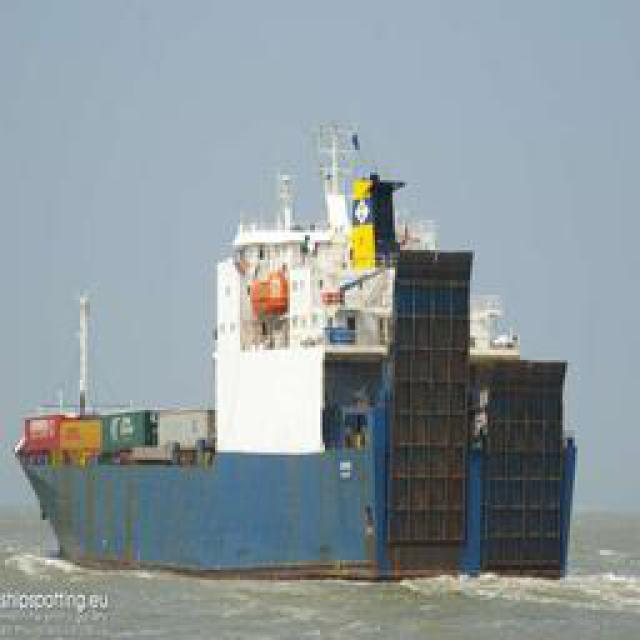Ship: (15, 119, 598, 589)
